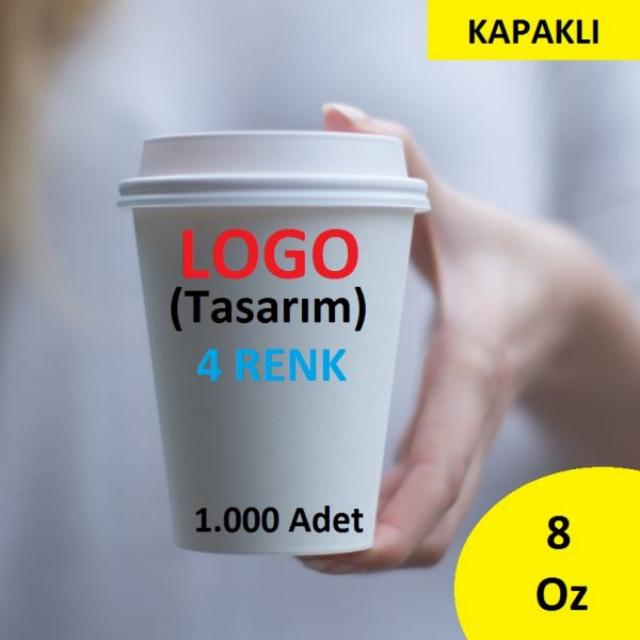trash: (114, 123, 434, 603)
